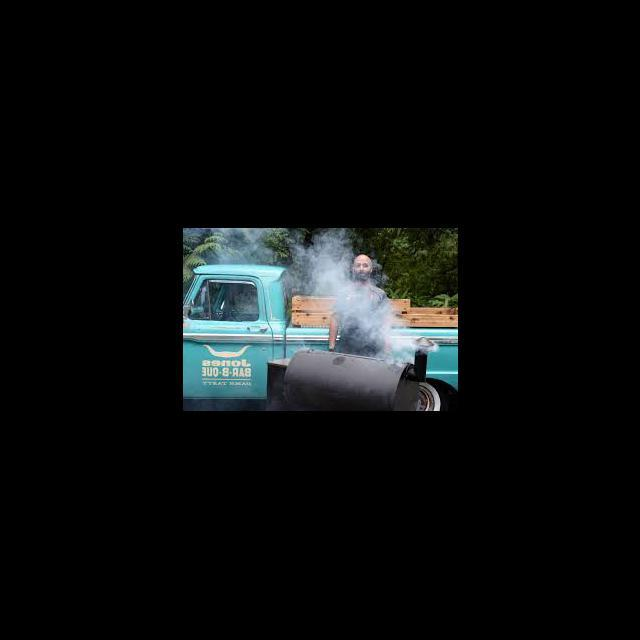Smoke: (335, 286, 401, 351), (293, 230, 348, 294), (184, 228, 276, 262)
